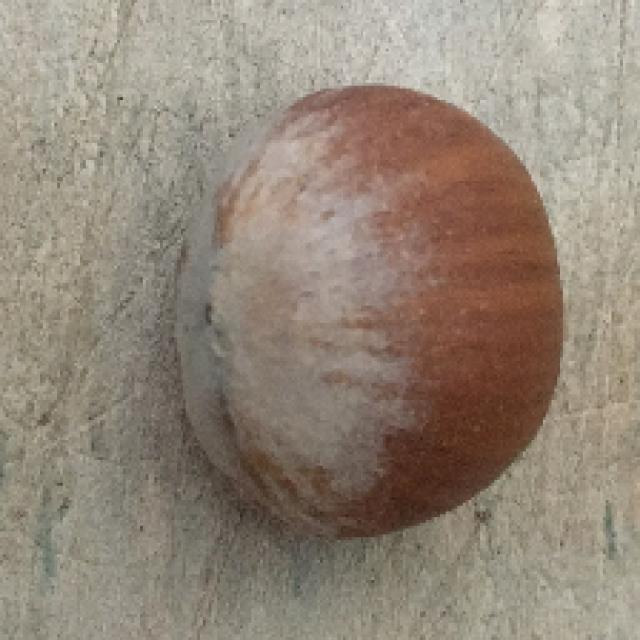qualityHazelnut: (154, 71, 572, 538)
